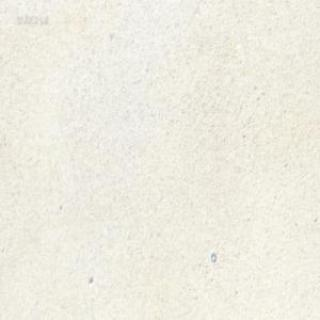Washertrack_idkeyframe: (210, 251, 215, 261)
